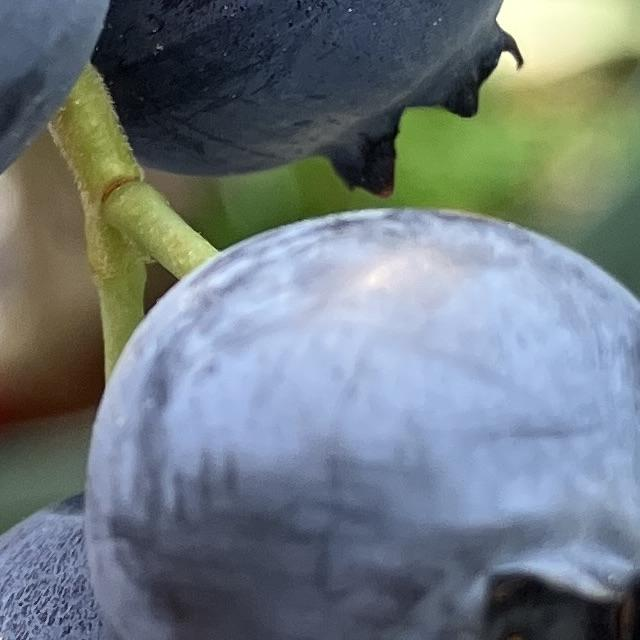Blueberries: (70, 189, 640, 640)
